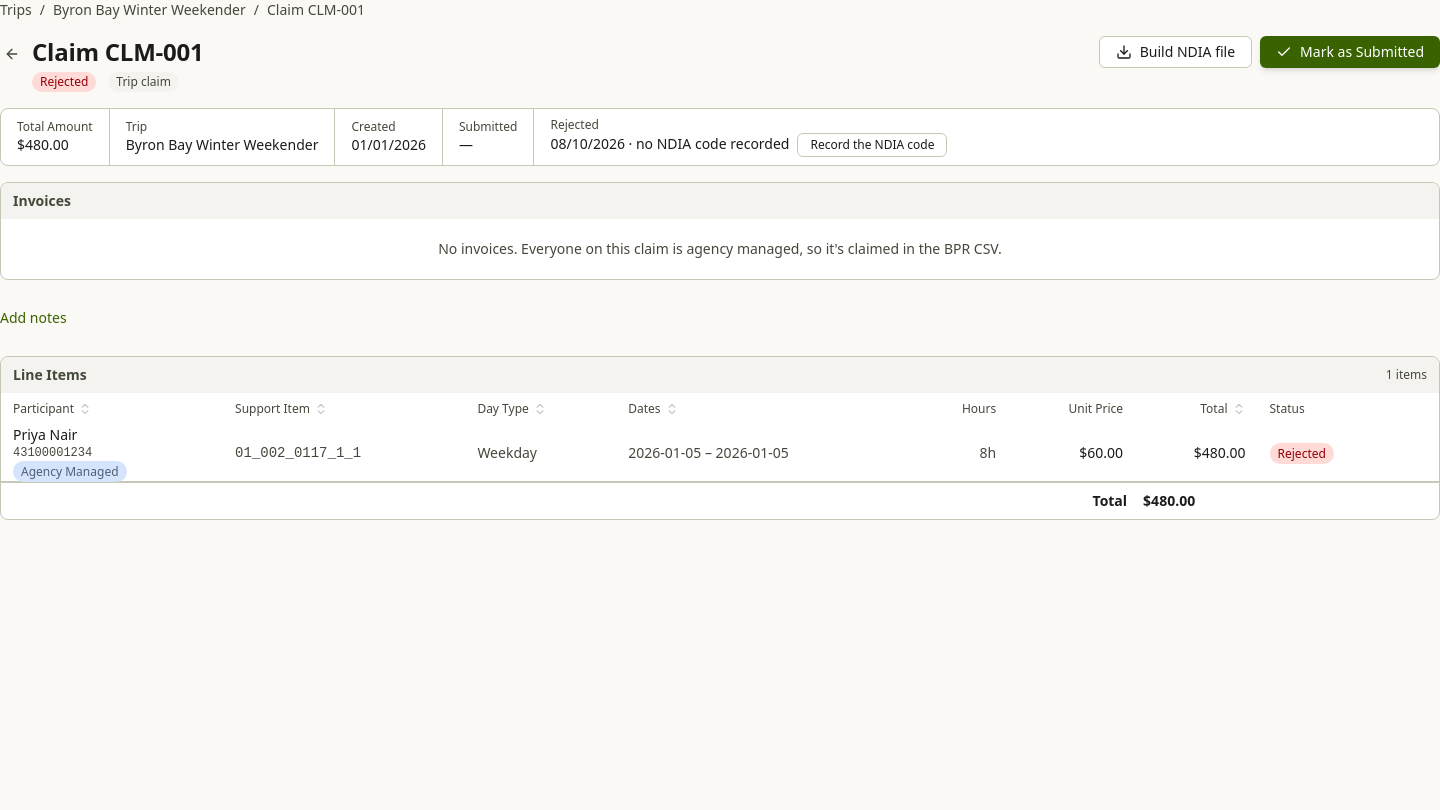
it: ClaimDetailPage — Mark as Rejected asks for the NDIA code › on a claim the NDIA has rejected › says the server's refusal in the dialog and keeps it open, so the code can be tried again
This screenshot has width=1440, height=810.
Step 1. Click the button "Record the NDIA code" → (872, 145), box [798,133,948,157]
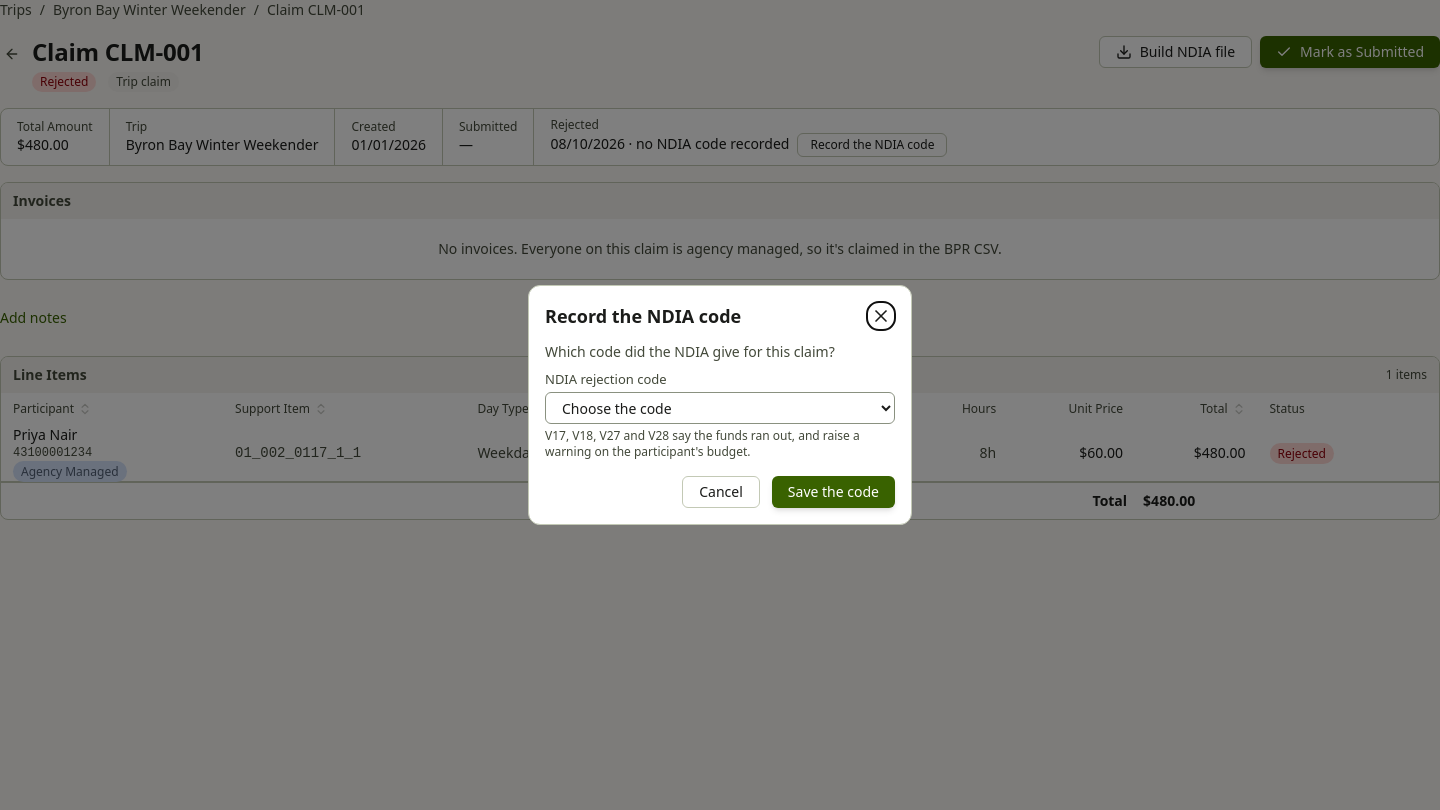
Step 2. Select "V27: not enough in the funding period" in the dropdown labelled "NDIA rejection code" → (720, 408), box [545,392,895,424]
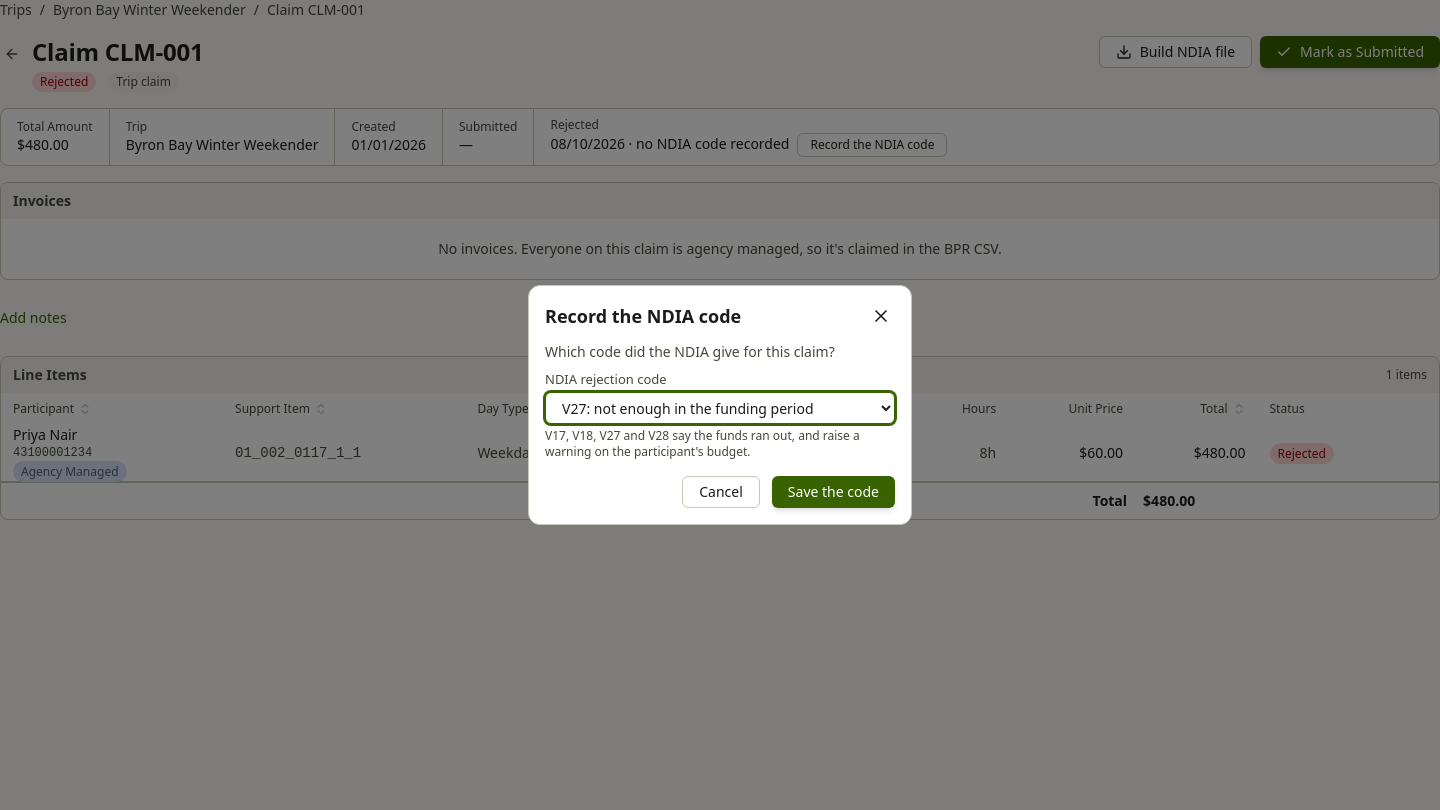
Step 3. Click the button "Save the code" → (833, 492), box [772,476,895,508]
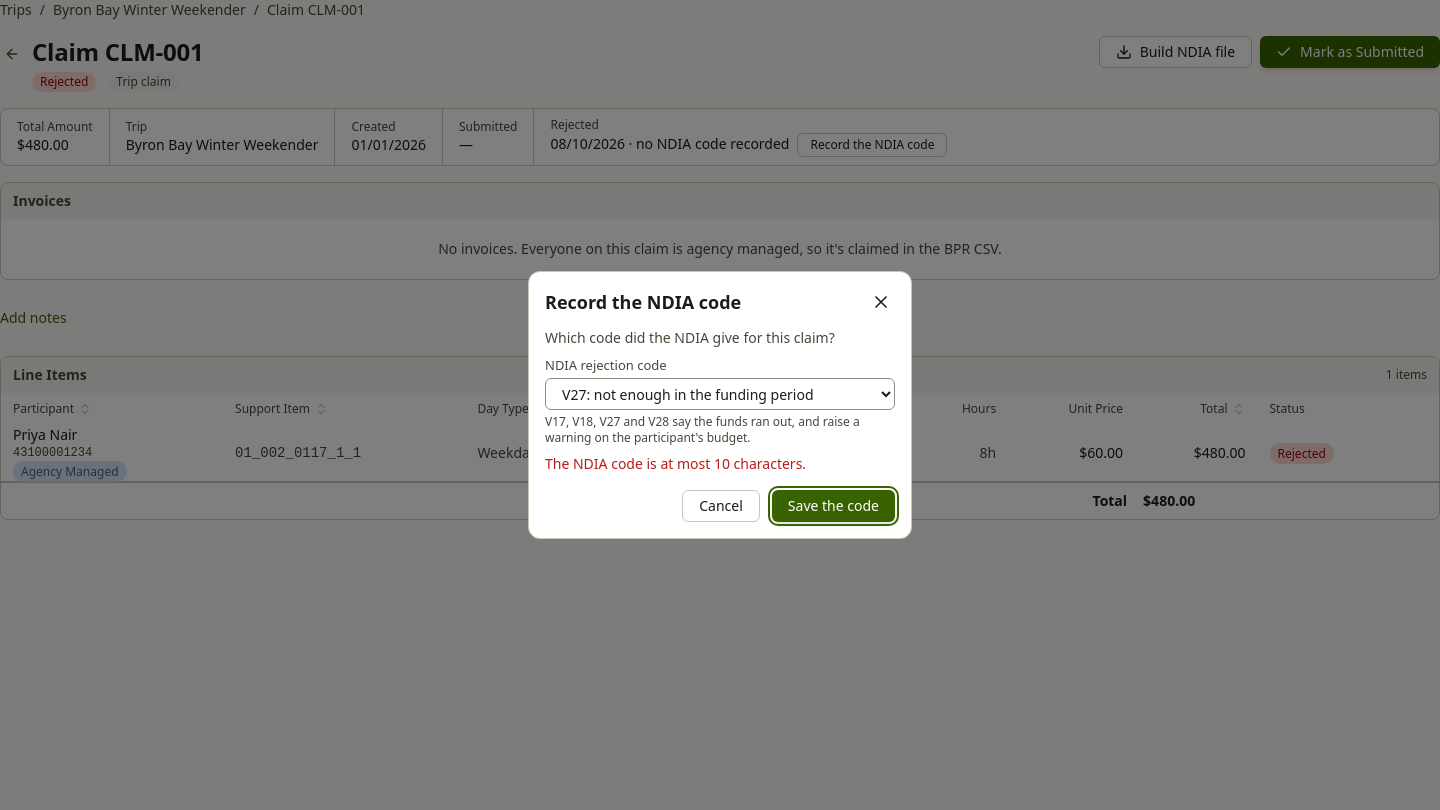
Expected: the message reads "The NDIA code is at most 10 characters.", [545,454,806,473]
